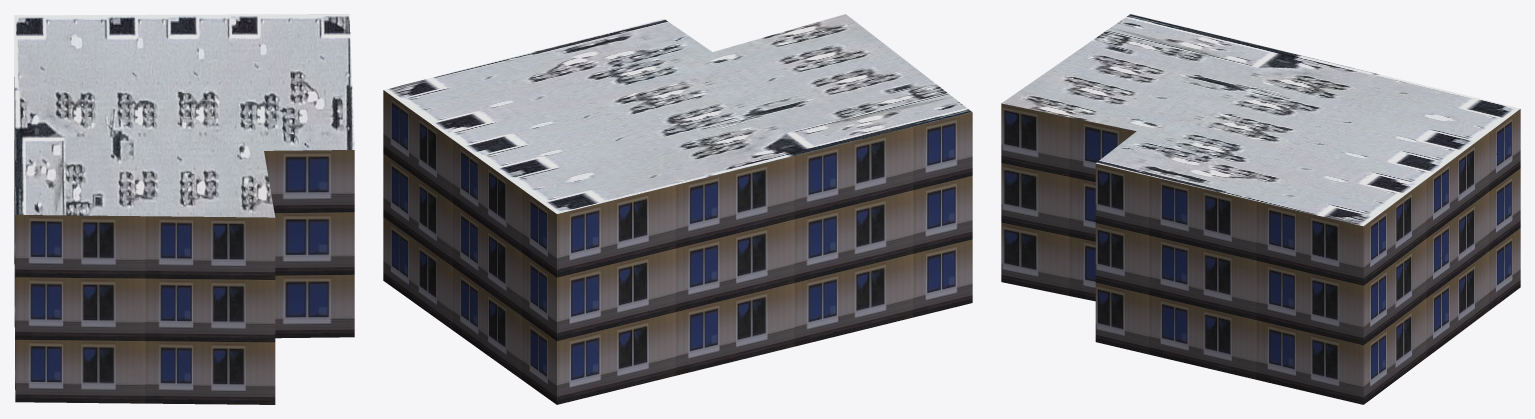
The model's file is ResTex__595.fbx.
3 views of the same model, side by side, from view 1: azimuth 30°, elevation 25°; view 2: azimuth 150°, elevation 25°; view 3: azimuth 270°, elevation 25° (orthographic). The views are drawn at different scales.
Parts seen in each view (by area): view 1: CityEngineMaterial_5_m, CityEngineMaterial_4_m; view 2: CityEngineMaterial_5_m, CityEngineMaterial_4_m; view 3: CityEngineMaterial_5_m, CityEngineMaterial_4_m.
Part boxes in pixels (x1,y1,x2,y2): CityEngineMaterial_5_m: (14, 77, 354, 404); CityEngineMaterial_4_m: (14, 14, 354, 217); CityEngineMaterial_5_m: (383, 90, 972, 404); CityEngineMaterial_4_m: (384, 14, 971, 213); CityEngineMaterial_5_m: (1001, 103, 1520, 404); CityEngineMaterial_4_m: (1001, 14, 1520, 226).
Size of the model in its own units: 22.94 by 9 by 23.71.
Materials: 2 (2 with a texture image).
